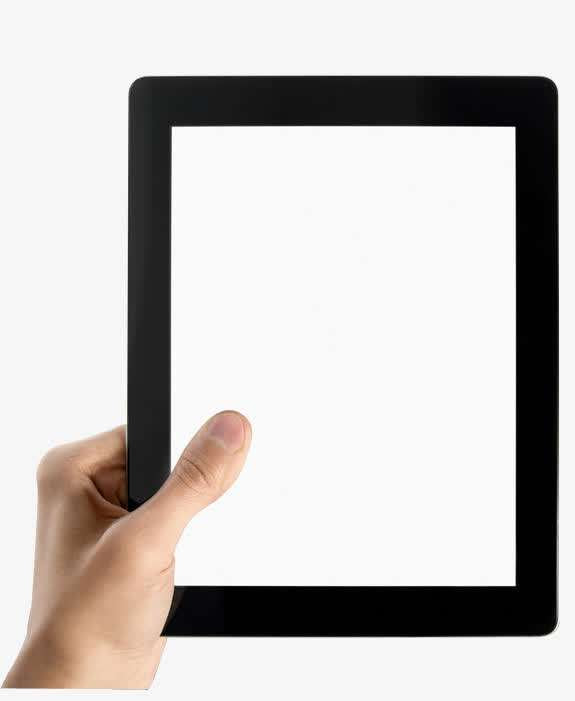pad: (20, 67, 575, 674)
